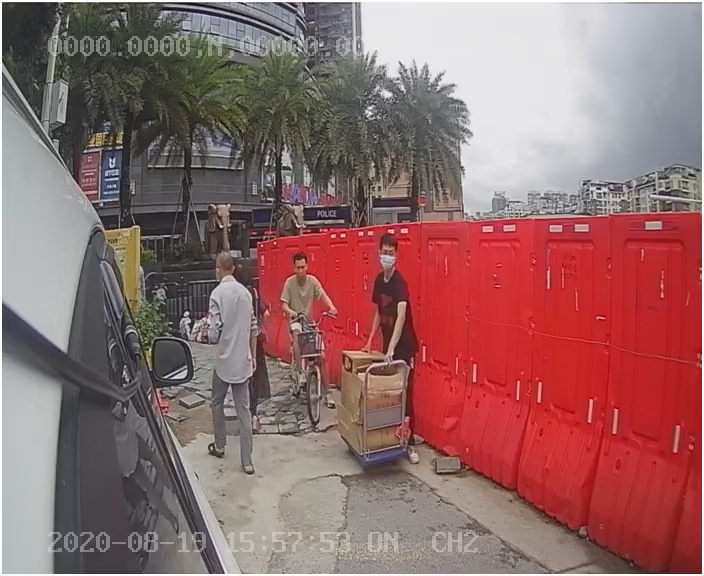person: (201, 250, 270, 478)
